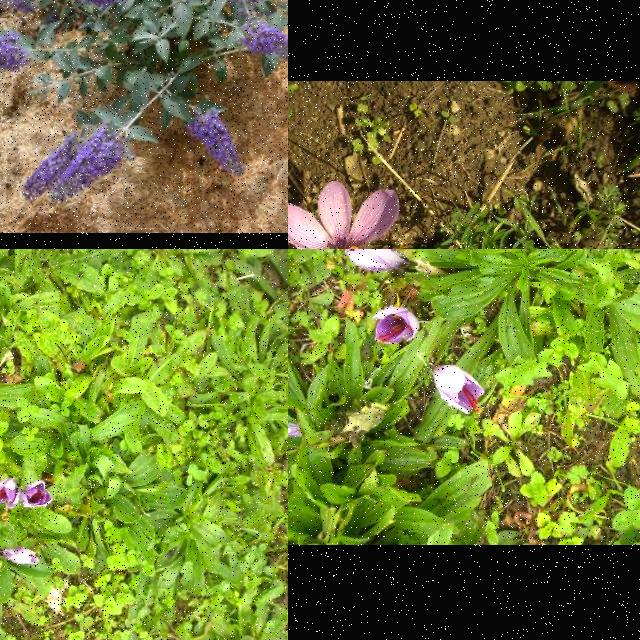flower: (288, 181, 412, 249), (434, 363, 486, 415), (371, 307, 421, 345), (345, 249, 413, 272), (21, 481, 54, 509), (0, 547, 41, 564), (0, 477, 20, 506)
